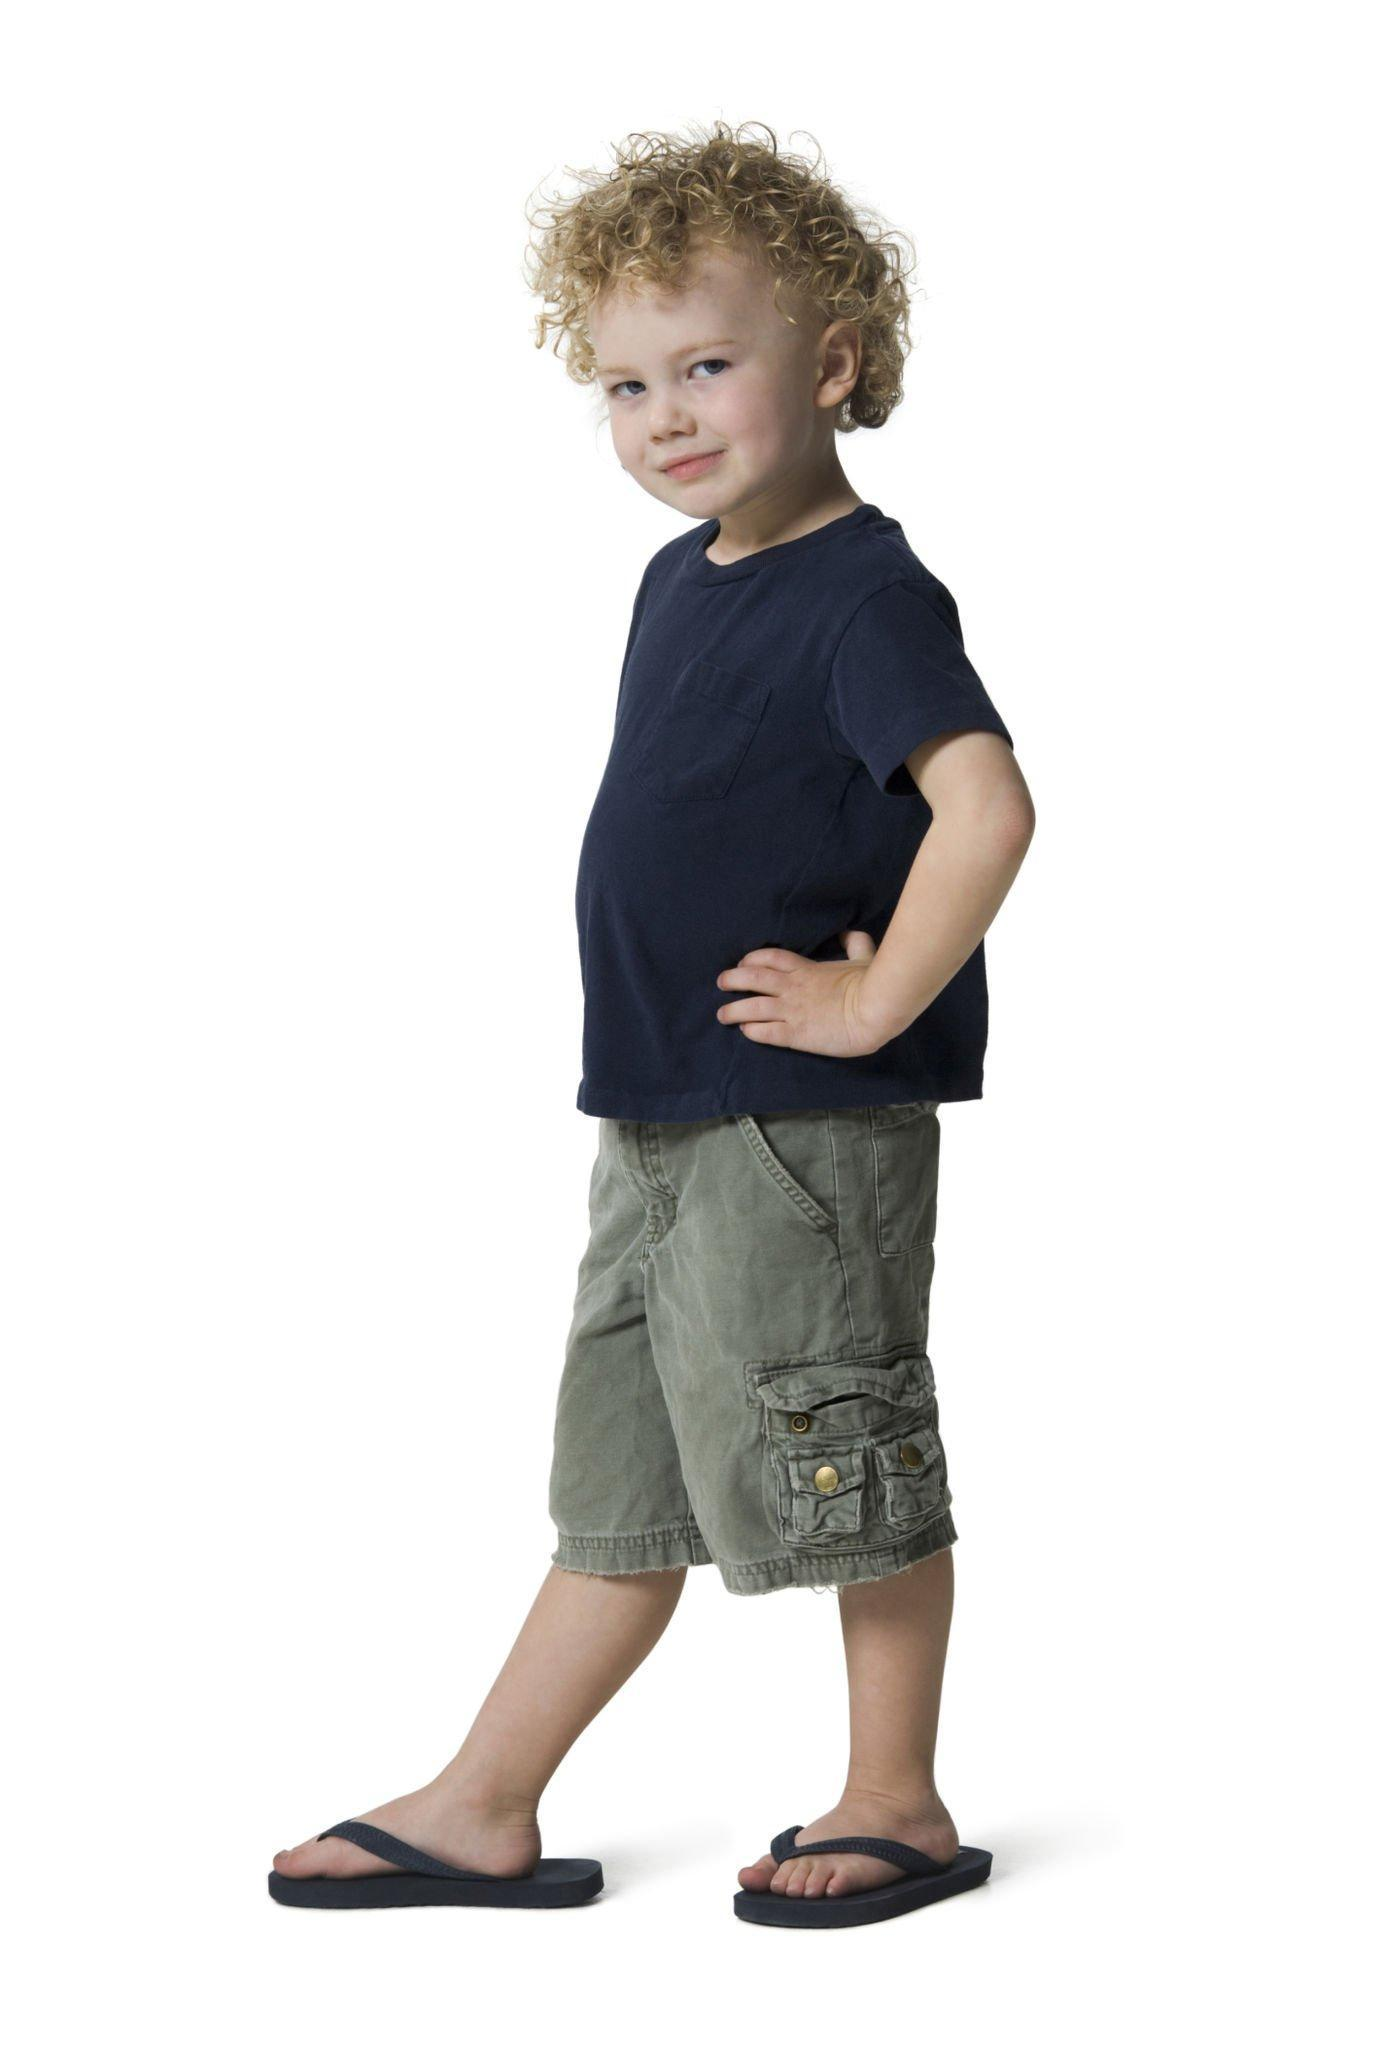Healthy: (552, 207, 852, 546)
